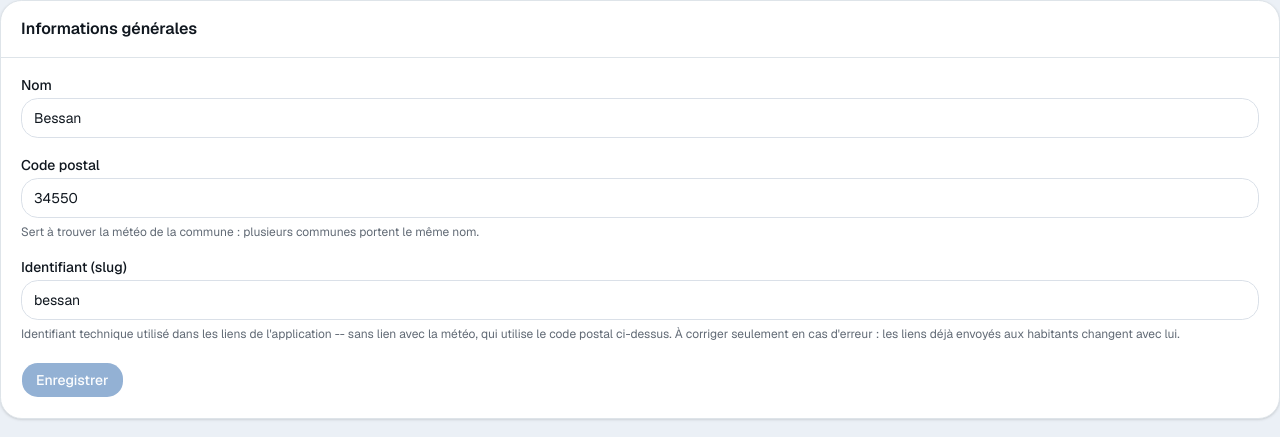
Scenario: CommuneInfoForm › disables saving until something actually changed
The image size is (1280, 437).
Expected: the button "Enregistrer" is disabled, [21,362,124,398]
Replace the text in the field labelled "Nom" with "Bessan-sur-Mer" at (640, 118), box [21,98,1259,138]
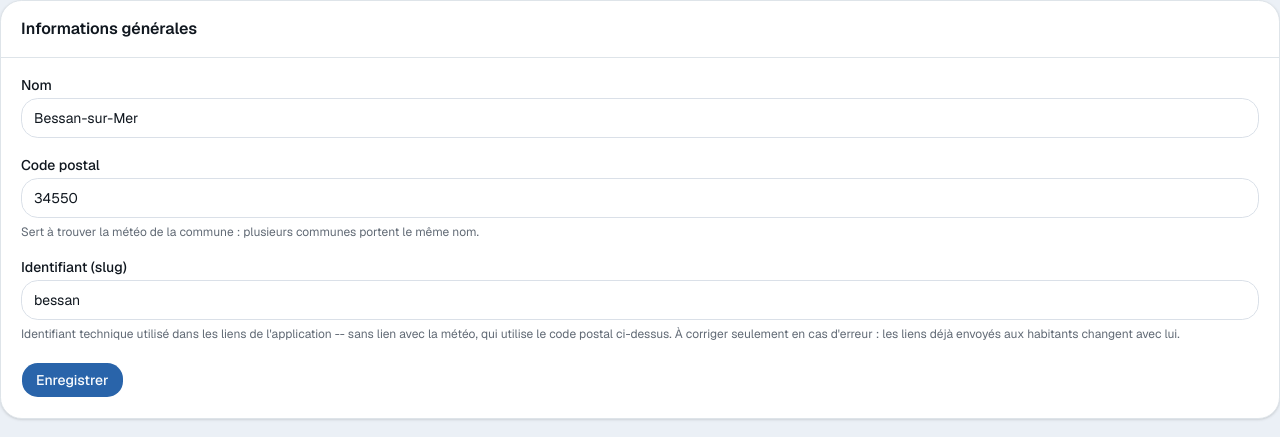
Expected: the button "Enregistrer" is enabled, [21,362,124,398]
